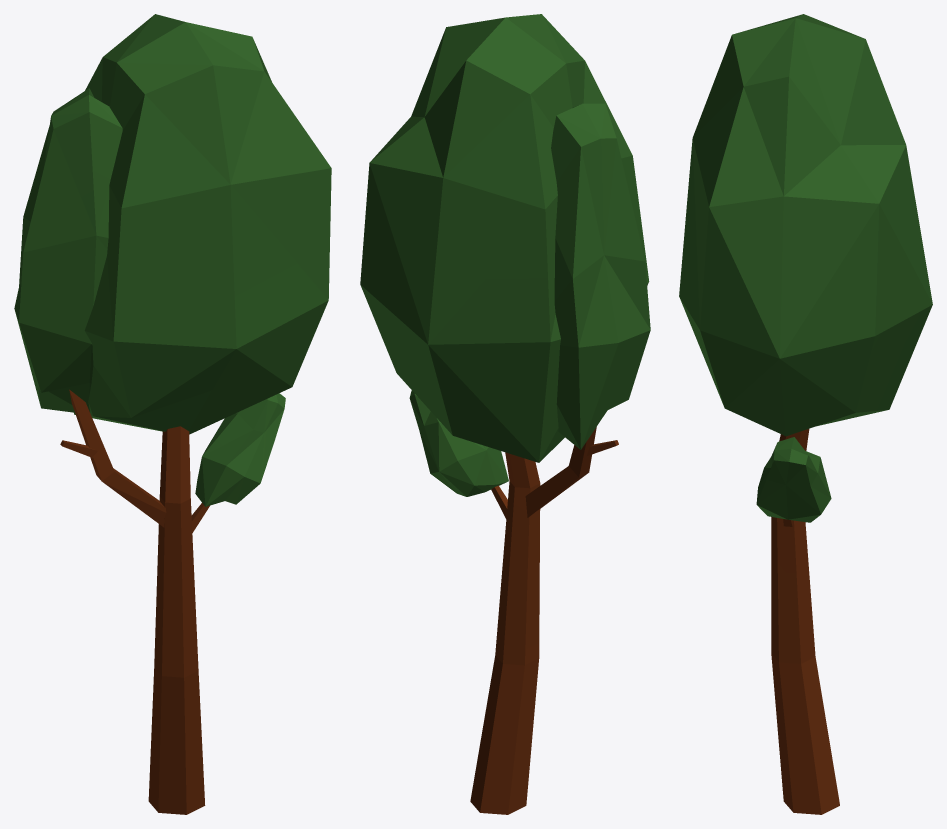
File: tree_06.glb
3 views of the same model, side by side, from view 1: azimuth 30°, elevation 25°; view 2: azimuth 150°, elevation 25°; view 3: azimuth 270°, elevation 25° (orthographic).
Parts seen in each view (by area): view 1: Tree_temp_climate_006; view 2: Tree_temp_climate_006; view 3: Tree_temp_climate_006.
Boxes of the visible parts, x1=… form: Tree_temp_climate_006: x1=14, y1=14, x2=331, y2=814; Tree_temp_climate_006: x1=360, y1=14, x2=650, y2=814; Tree_temp_climate_006: x1=679, y1=14, x2=932, y2=814.
Bounding box in the file's own units: 0.0788 × 0.205 × 0.06.
Materials: 1 (1 with a texture image).
